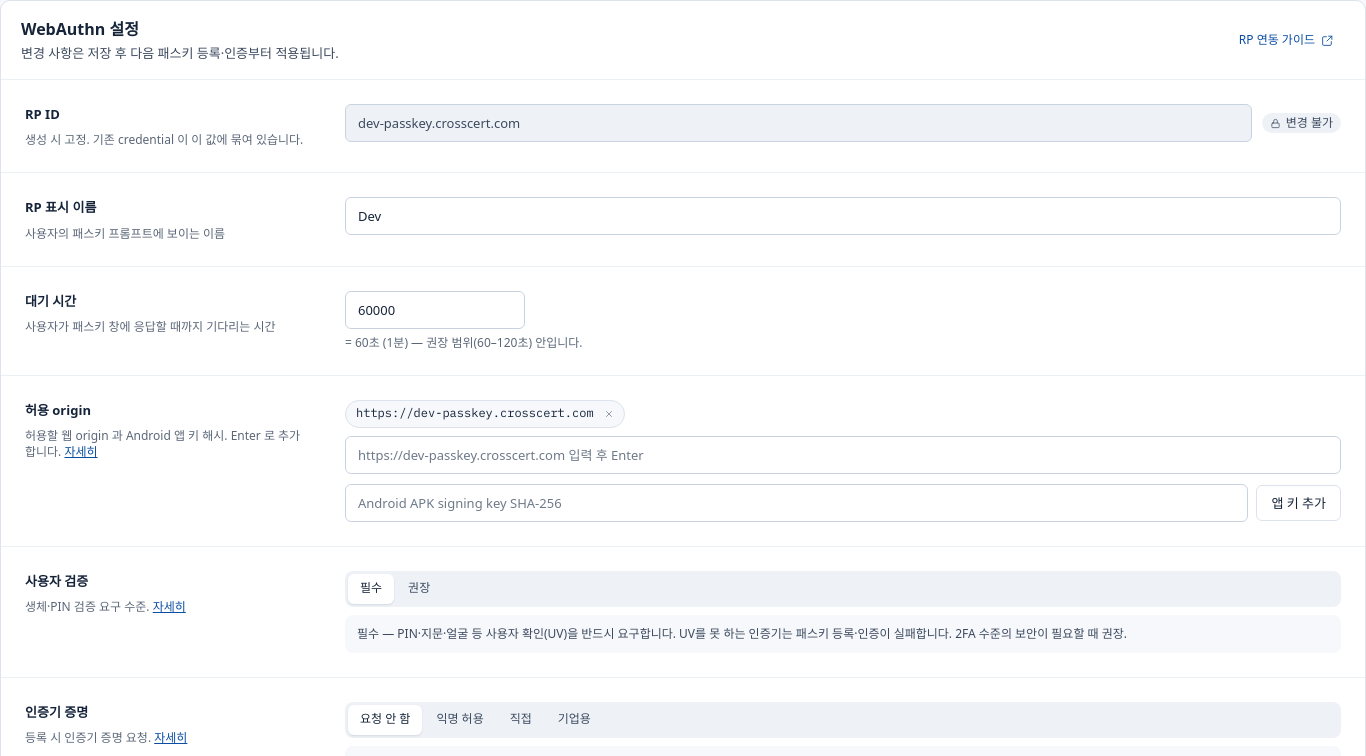
Test: WebauthnConfigTab V2 › dirty → SaveBar 건수·요약, 변경 필드 표시, 실시간 timeout 안내, 되돌리기
Replace the text in the number field labelled "대기 시간" with "120000" at (435, 310), box [345,291,525,329]
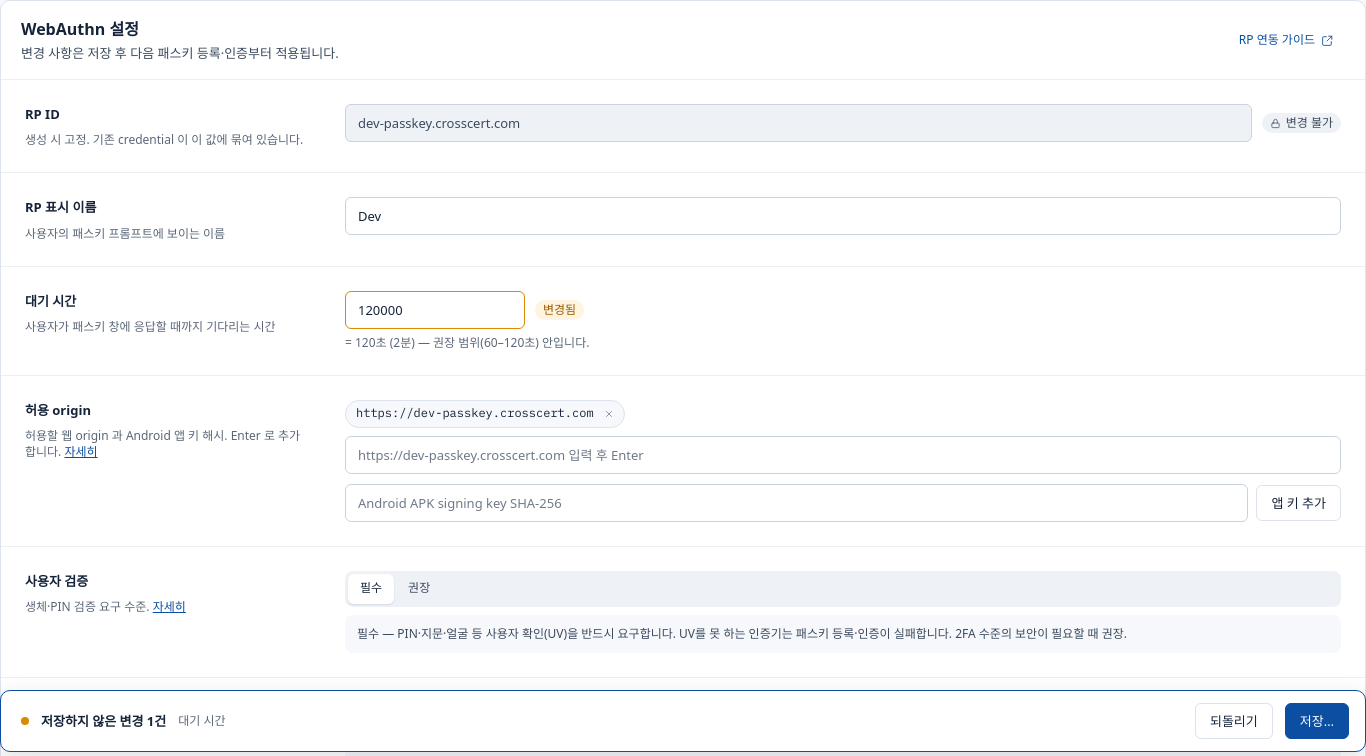
Now the element named "저장되지 않은 변경" shows "저장하지 않은 변경 1건", box [0,690,1365,752]
Now the element named "저장되지 않은 변경" shows "대기 시간", box [178,712,226,729]
Now the text "변경됨" is shown once, box [535,300,584,320]
Type "sub.dev-passkey.crosscert.com" into the field named "origin 추가" at (843, 455), box [345,436,1341,474]
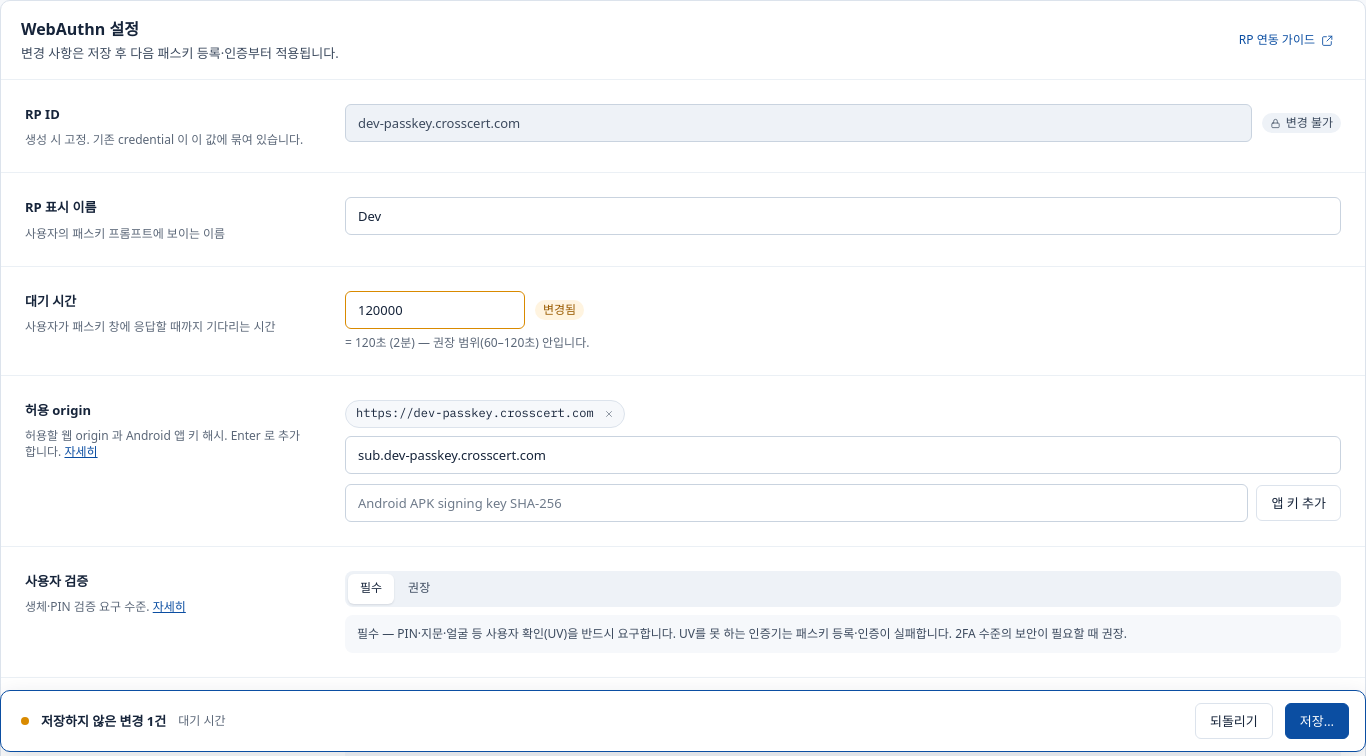
Press Enter in the field named "origin 추가", box [345,436,1341,474]
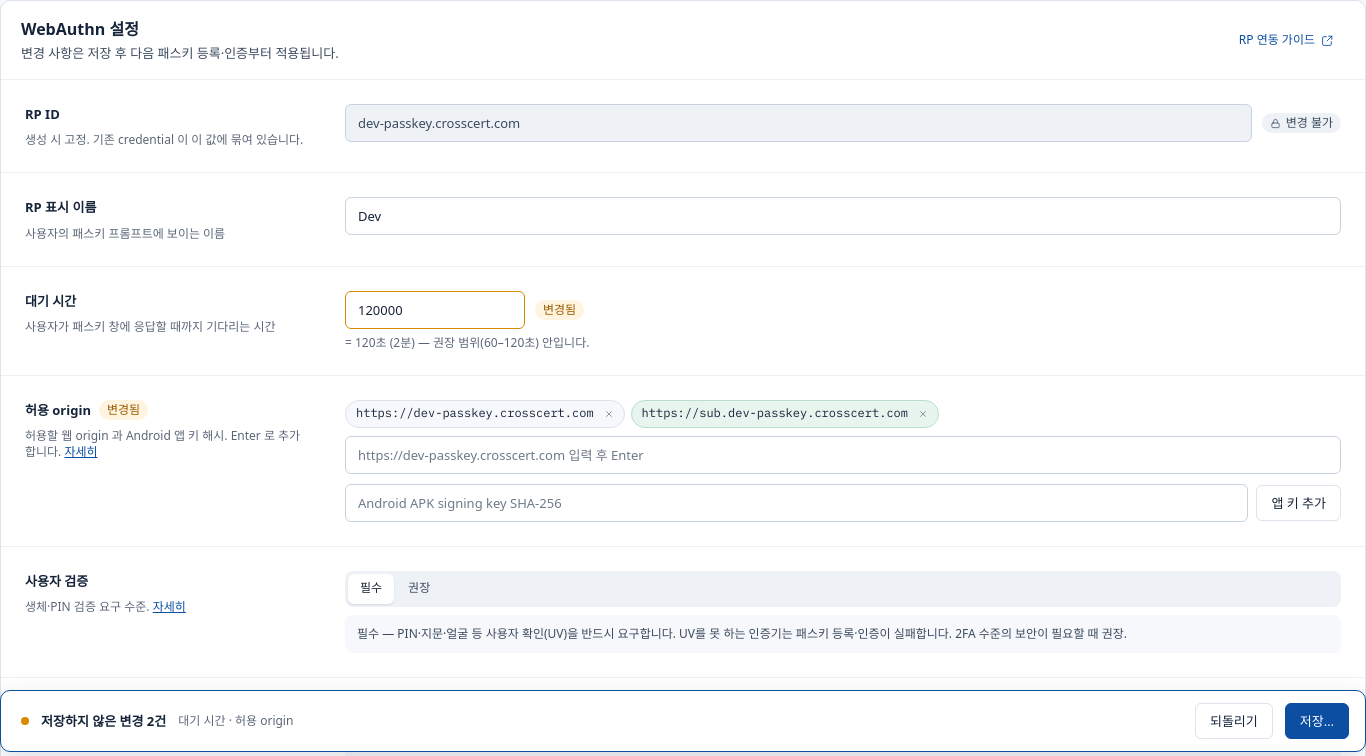
Now the text "https://sub.dev-passkey.crosscert.com" is shown, box [642,404,908,423]
Now the element named "저장되지 않은 변경" shows "저장하지 않은 변경 2건", box [0,690,1365,752]
Now the element named "저장되지 않은 변경" shows "대기 시간 · 허용 origin", box [178,712,293,729]
Click the button "되돌리기" at (1234, 721), box [1195,703,1273,739]
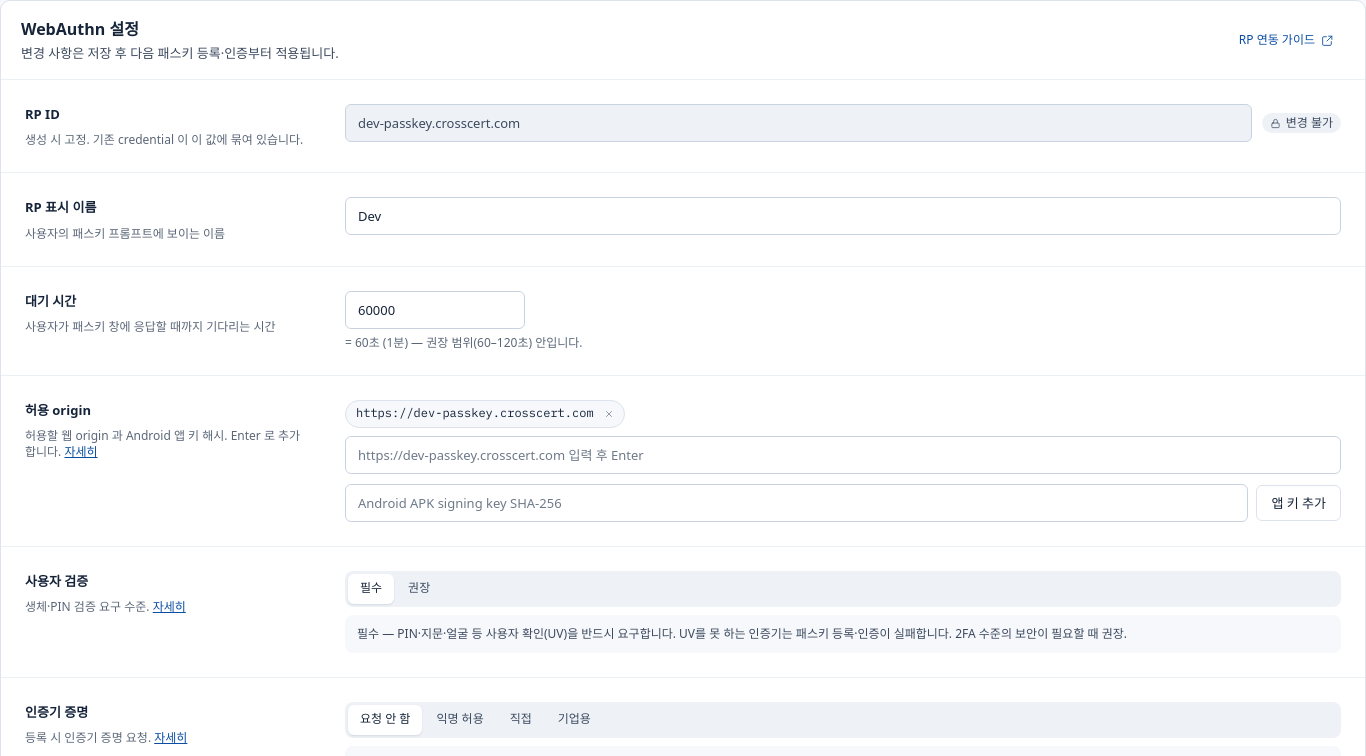
Now the text "https://sub.dev-passkey.crosscert.com" is gone
